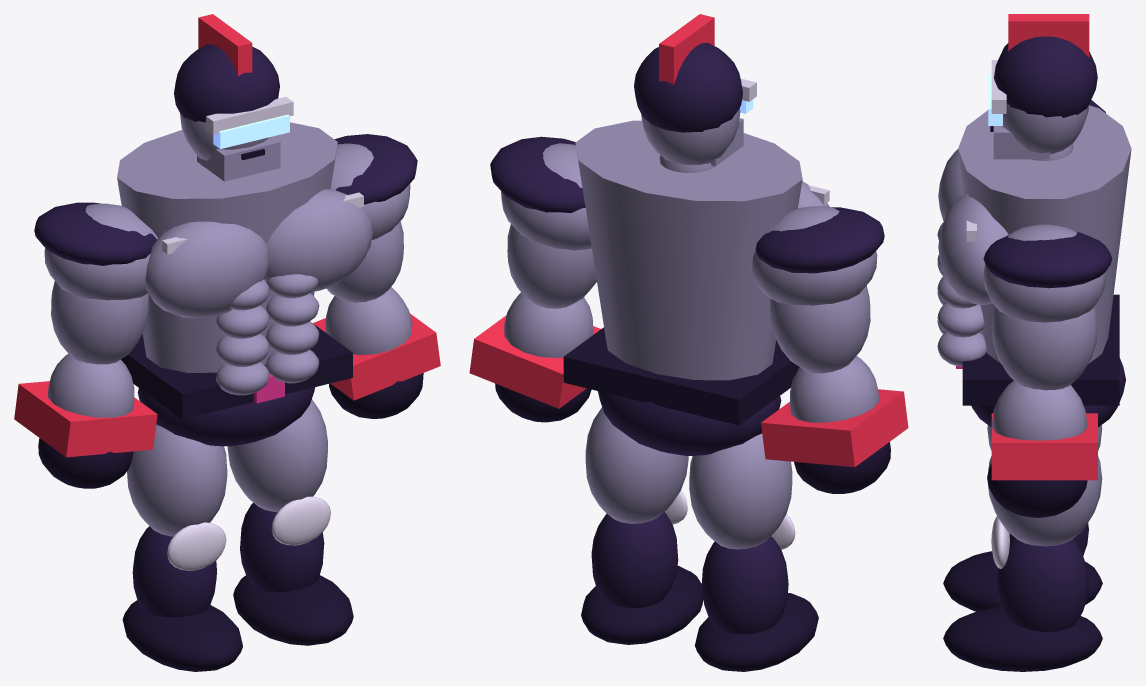
File: elite.glb
3 views of the same model, side by side, from view 1: azimuth 30°, elevation 25°; view 2: azimuth 150°, elevation 25°; view 3: azimuth 270°, elevation 25° (orthographic). The views are drawn at different scales.
Visible parts, largest first — view 1: Torso, Pectoral_L, Thigh_L, Pectoral_R, Thigh_R, Belt, Cosmetic_Bracer_L, Boot_R, Boot_L, Helmet, Bicep_L, Pelvis (+27 smaller); view 2: Torso, Belt, Thigh_L, Thigh_R, Helmet, Shin_L, Shin_R, Cosmetic_Bracer_L, Bicep_L, Pelvis, ShoulderPlate_L, Boot_L (+12 smaller); view 3: Torso, Shin_R, Boot_R, Helmet, Bicep_R, ShoulderPlate_R, Cosmetic_Bracer_R, Deltoid_R, Belt, Forearm_R, Pectoral_R, Thigh_R (+13 smaller).
Part boxes in pixels (x1,y1,x2,y2): Torso: (117, 122, 337, 372); Pectoral_L: (145, 221, 268, 318); Thigh_L: (127, 424, 227, 536); Pectoral_R: (265, 189, 372, 291); Thigh_R: (227, 399, 327, 512); Belt: (121, 321, 352, 419); Cosmetic_Bracer_L: (14, 381, 157, 457); Boot_R: (233, 575, 353, 645); Boot_L: (122, 600, 242, 671); Helmet: (174, 44, 279, 122); Bicep_L: (51, 281, 148, 364); Pelvis: (137, 387, 315, 446); Torso: (575, 120, 802, 380); Belt: (563, 327, 799, 425); Thigh_L: (689, 433, 792, 549); Thigh_R: (585, 407, 688, 523); Helmet: (634, 43, 742, 132); Shin_L: (701, 536, 788, 634); Shin_R: (591, 512, 678, 607); Cosmetic_Bracer_L: (761, 389, 908, 467); Bicep_L: (770, 285, 870, 373); Pelvis: (598, 391, 781, 455); ShoulderPlate_L: (755, 207, 884, 273); Boot_L: (695, 593, 818, 671); Torso: (958, 105, 1131, 363); Shin_R: (996, 537, 1088, 631); Boot_R: (943, 606, 1102, 671); Helmet: (994, 36, 1097, 117); Bicep_R: (991, 306, 1097, 390); ShoulderPlate_R: (983, 232, 1112, 288); Cosmetic_Bracer_R: (991, 413, 1097, 480); Deltoid_R: (983, 224, 1106, 322); Belt: (962, 294, 1119, 405); Forearm_R: (992, 380, 1087, 440); Pectoral_R: (938, 193, 1008, 304); Thigh_R: (987, 456, 1102, 546).
Bounding box in the file's own units: 2.13 × 3.29 × 0.9347.
